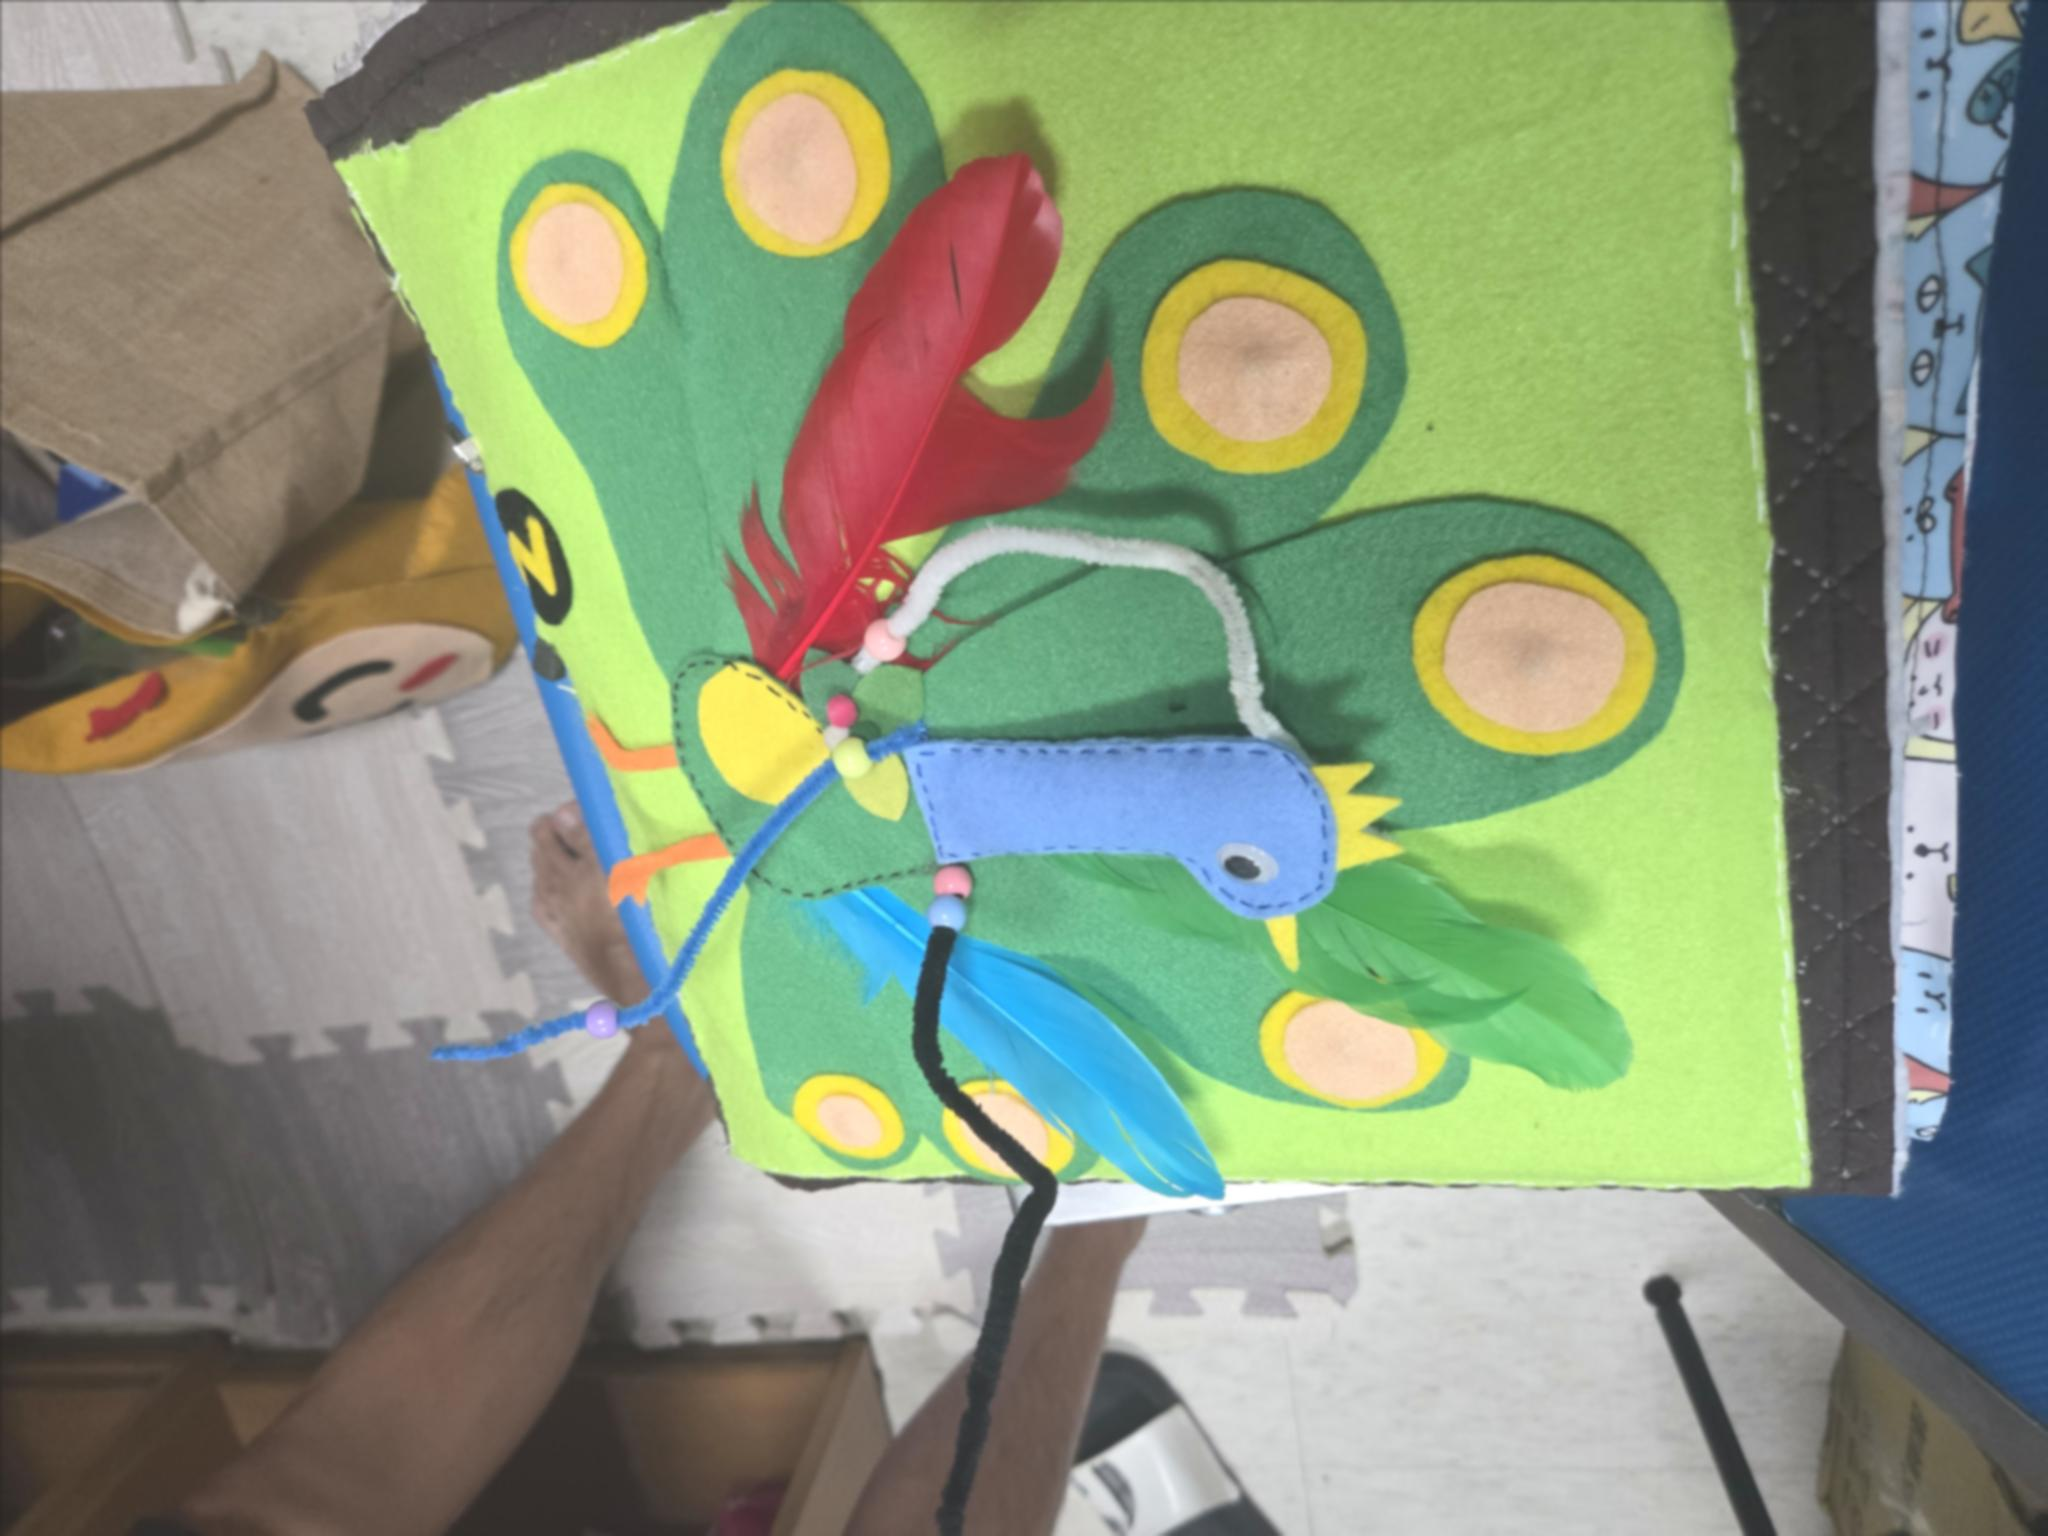bead: (829, 731, 879, 812), (856, 611, 906, 679), (574, 986, 622, 1052), (918, 857, 992, 899), (927, 900, 961, 945)
